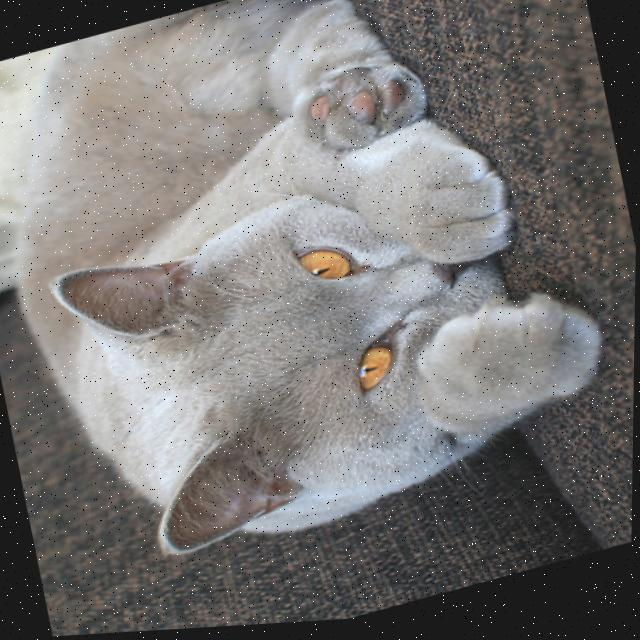British Shorthair: (0, 0, 633, 600)
